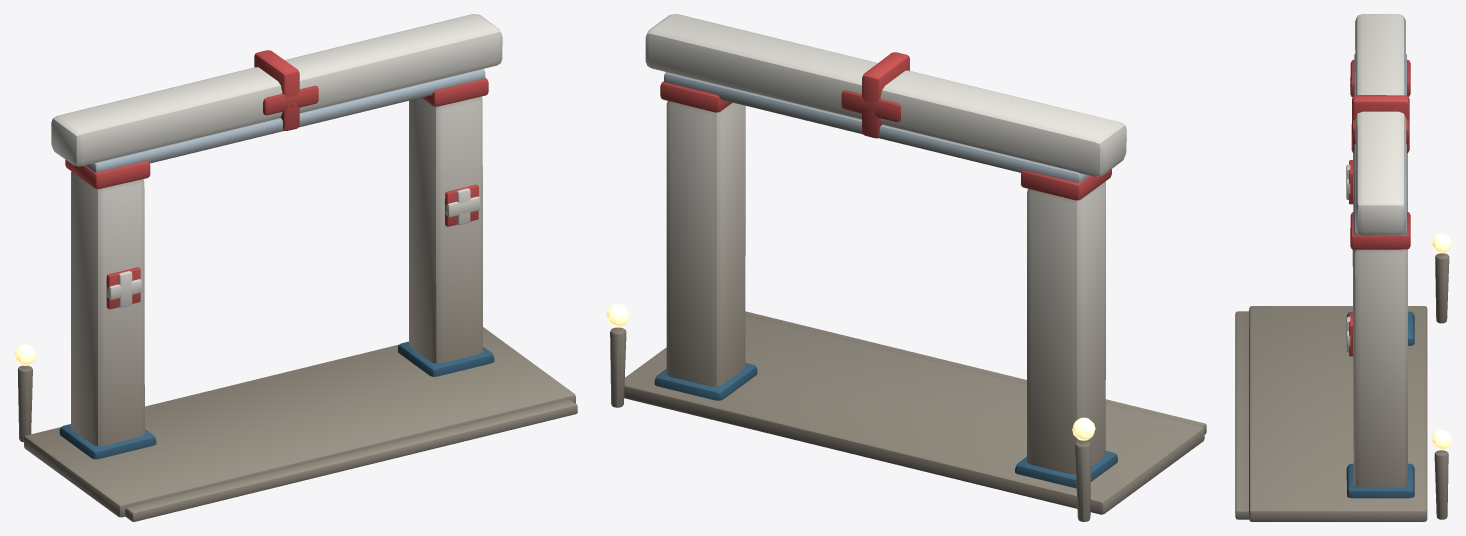
3 renders of one model, left to right at view 1: azimuth 30°, elevation 25°; view 2: azimuth 150°, elevation 25°; view 3: azimuth 270°, elevation 25°, orthographic. The views are drawn at different scales.
Parts seen in each view (by area): view 1: gate_59ff6dbe; view 2: gate_59ff6dbe; view 3: gate_59ff6dbe.
Boxes of the visible parts, box(x1,y1,x2,y2) form: gate_59ff6dbe: box(14, 14, 577, 521); gate_59ff6dbe: box(606, 14, 1206, 521); gate_59ff6dbe: box(1235, 14, 1451, 521).
Size of the model in its own units: 5.74 by 4.2 by 2.54.
